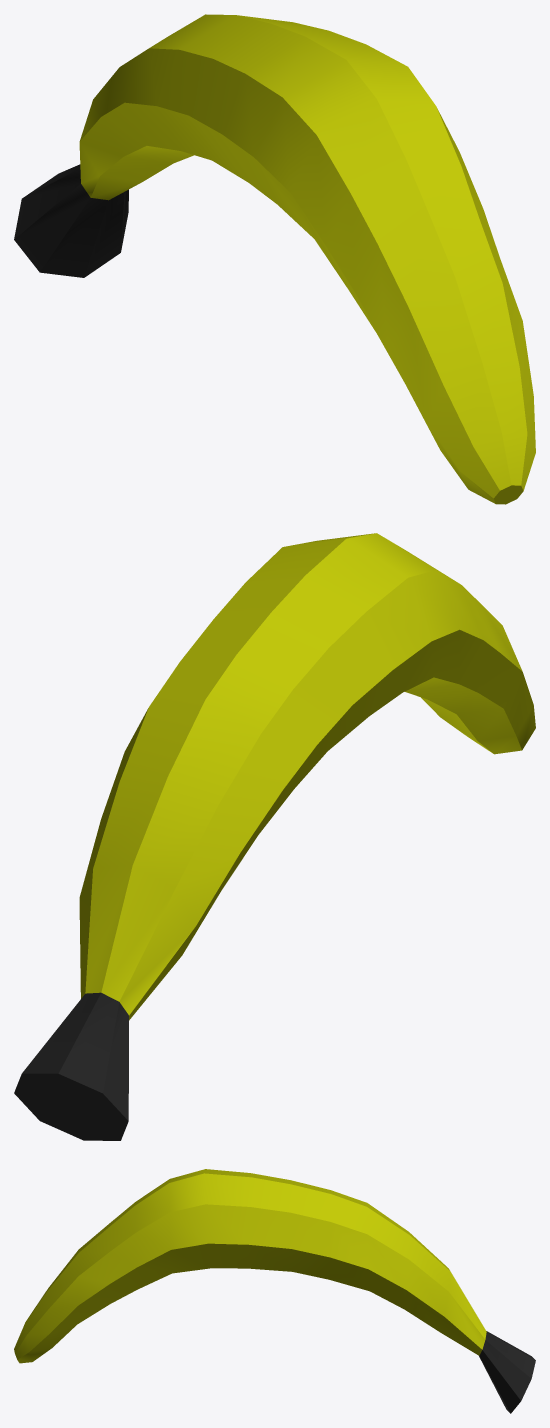
File: banaantje.fbx
3 renders of one model, top to bottom at view 1: azimuth 30°, elevation 25°; view 2: azimuth 150°, elevation 25°; view 3: azimuth 270°, elevation 25°, orthographic. The views are drawn at different scales.
Visible parts, largest first — view 1: pCylinder1; view 2: pCylinder1; view 3: pCylinder1.
Boxes of the visible parts, x1,y1,x2,y2 form: pCylinder1: (14, 14, 535, 504); pCylinder1: (14, 533, 535, 1140); pCylinder1: (14, 1169, 535, 1413).
Size of the model in its own units: 71.91 by 159 by 318.
